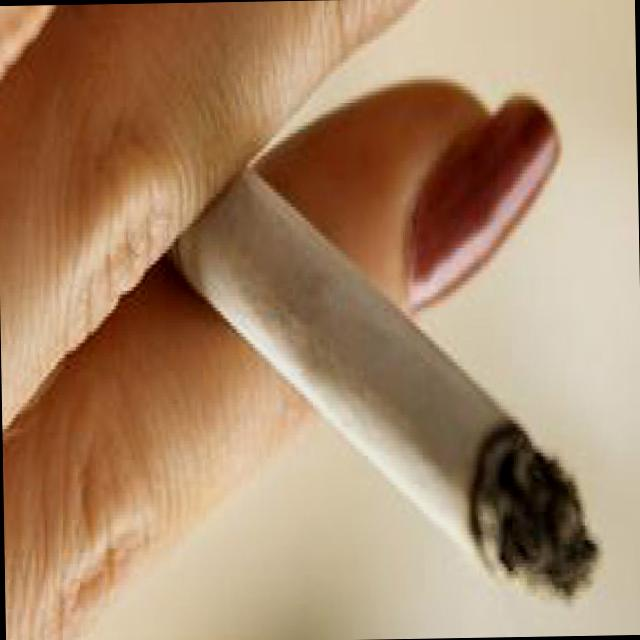smoke: (136, 110, 604, 638)
